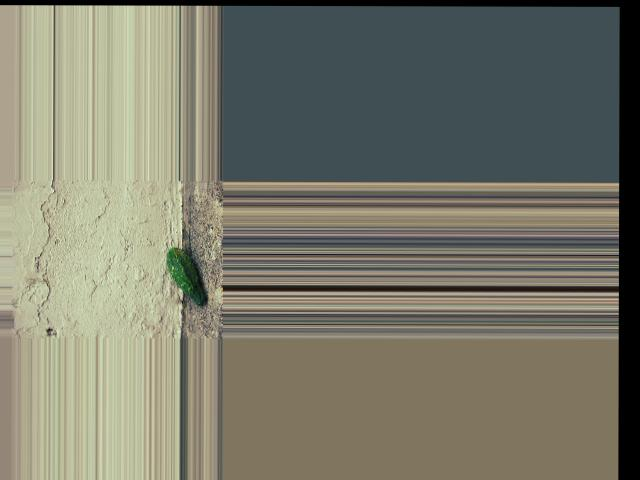cucumber: (165, 247, 206, 304)
